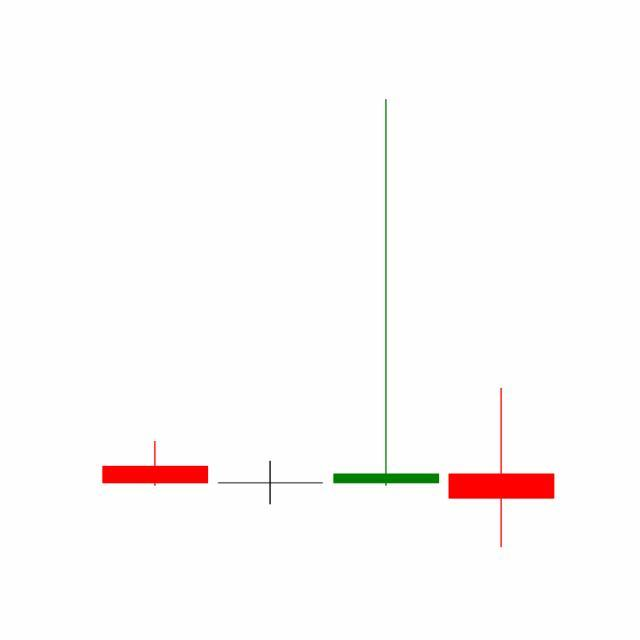Gravestone Doji: (329, 96, 445, 491)
